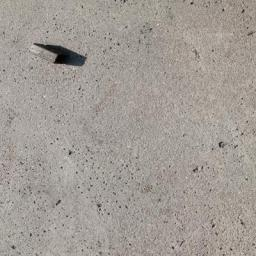FOD: (27, 41, 77, 69)
